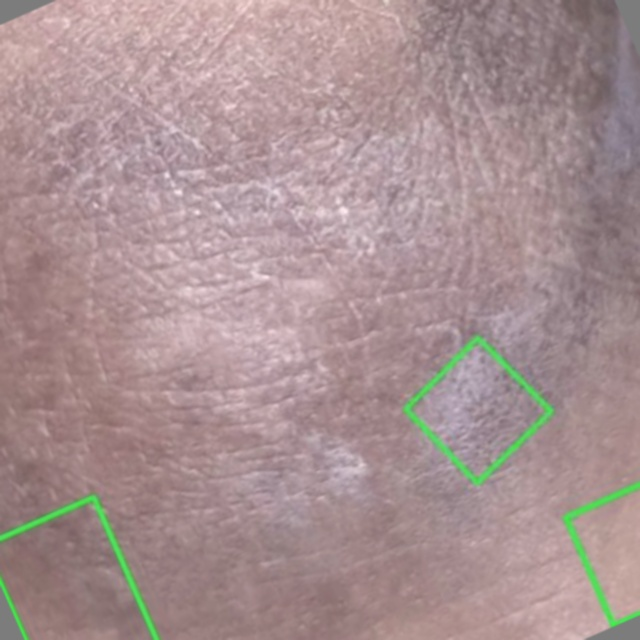Contact Dermatitis: (406, 338, 551, 483)
